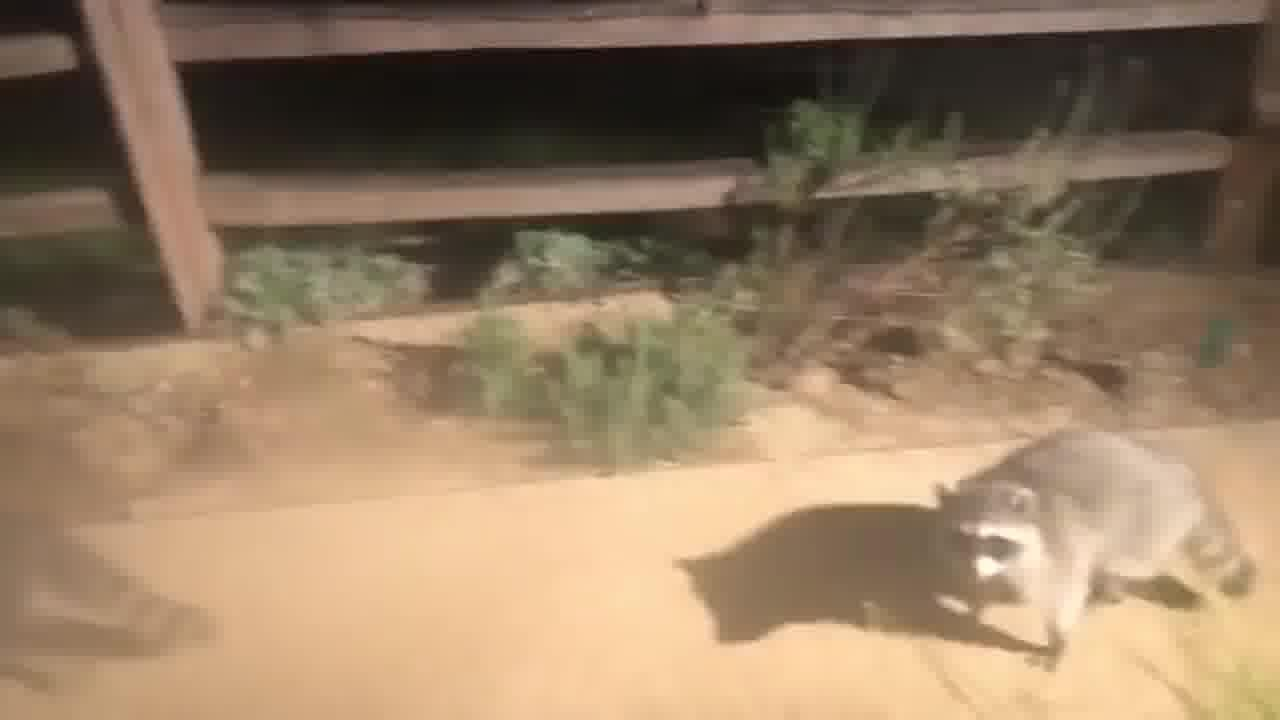raccoon: (917, 409, 1268, 688), (0, 483, 238, 694)
